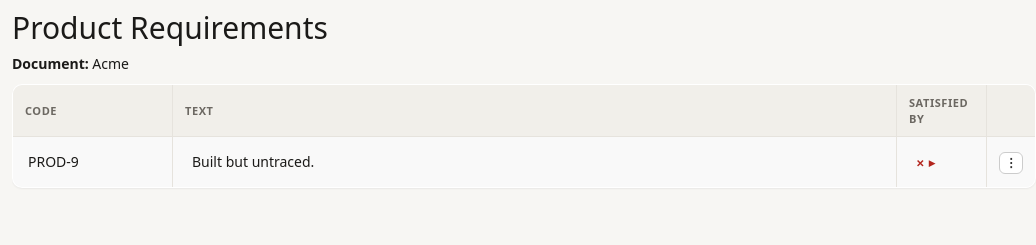
PrdTable › flags an implemented PRD item with no satisfying requirement as a gap
This screenshot has width=1036, height=245.
Click the button named "Show requirements satisfying p_c".
click(925, 162)  # box [909,152,941,174]
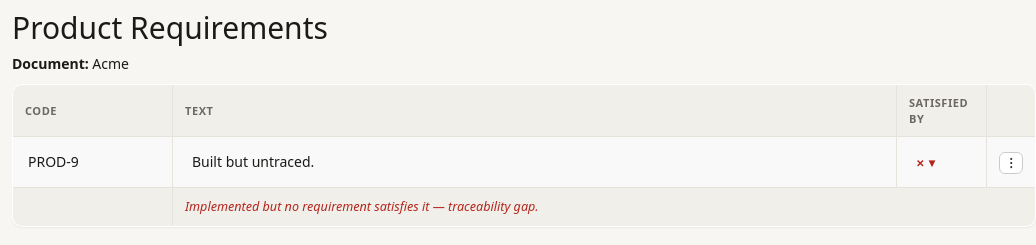
Result: the text "gap" is shown at [185,198,539,215]
